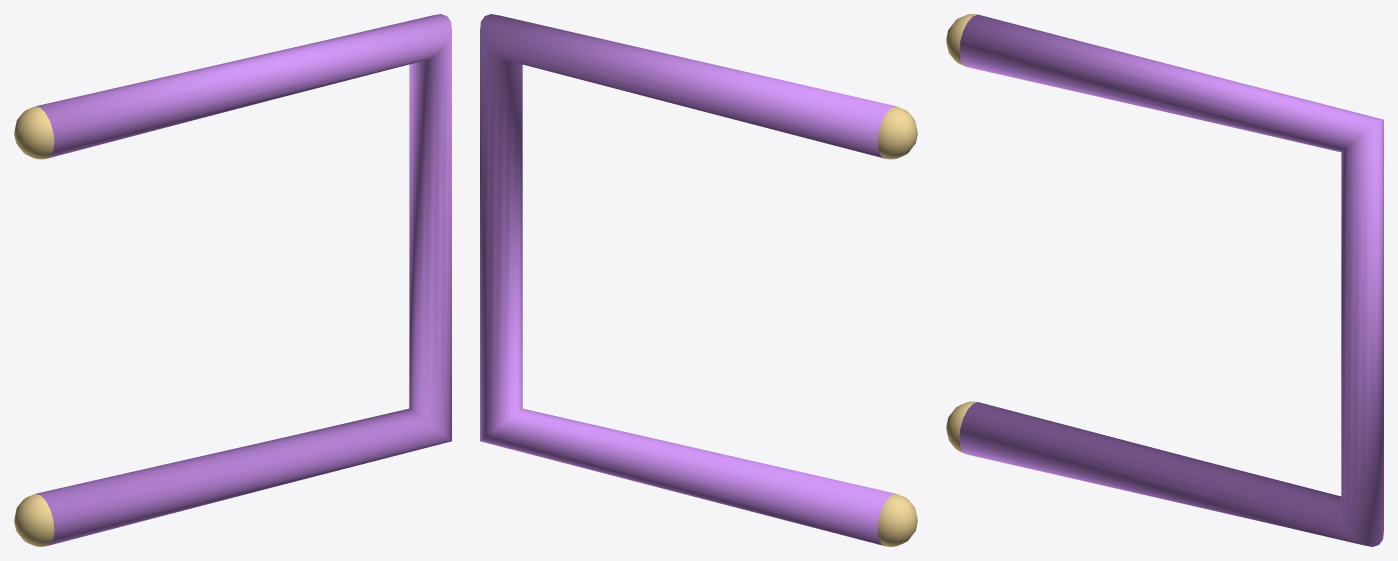
File: bracket-BKsutjZl.glb
The picture shows the model from 3 angles, left to right: view 1: azimuth 30°, elevation 25°; view 2: azimuth 150°, elevation 25°; view 3: azimuth 330°, elevation 25°; orthographic projection.
Visible parts, largest first — view 1: R3D_bracket_Body_0, R3D_bracket_Tip_0, R3D_bracket_Tip_1; view 2: R3D_bracket_Body_0, R3D_bracket_Tip_0, R3D_bracket_Tip_1; view 3: R3D_bracket_Body_0, R3D_bracket_Tip_0, R3D_bracket_Tip_1.
Part boxes in pixels (x1,y1,x2,y2): R3D_bracket_Body_0: [36, 14, 451, 545]; R3D_bracket_Tip_0: [14, 493, 54, 546]; R3D_bracket_Tip_1: [14, 106, 54, 159]; R3D_bracket_Body_0: [480, 14, 895, 545]; R3D_bracket_Tip_0: [877, 493, 917, 546]; R3D_bracket_Tip_1: [877, 106, 917, 159]; R3D_bracket_Body_0: [959, 14, 1383, 546]; R3D_bracket_Tip_0: [946, 401, 977, 453]; R3D_bracket_Tip_1: [946, 14, 977, 66].
Size of the model in its own units: 2.2 by 2.14 by 0.24.
